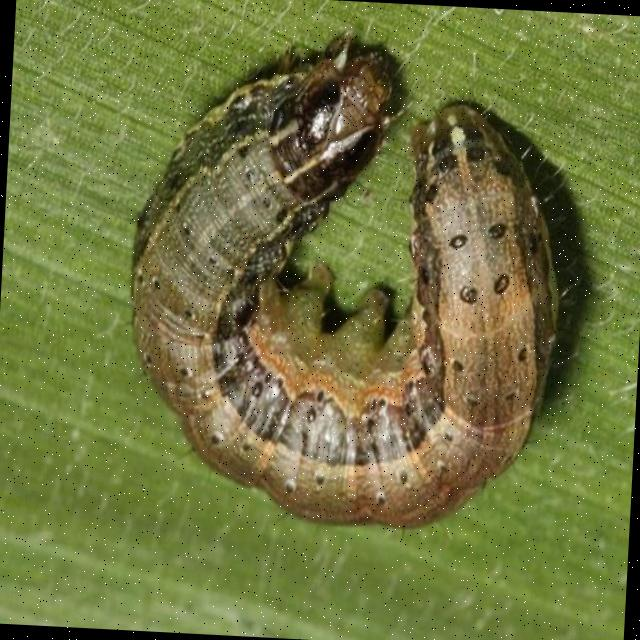worm: (119, 18, 578, 539)
